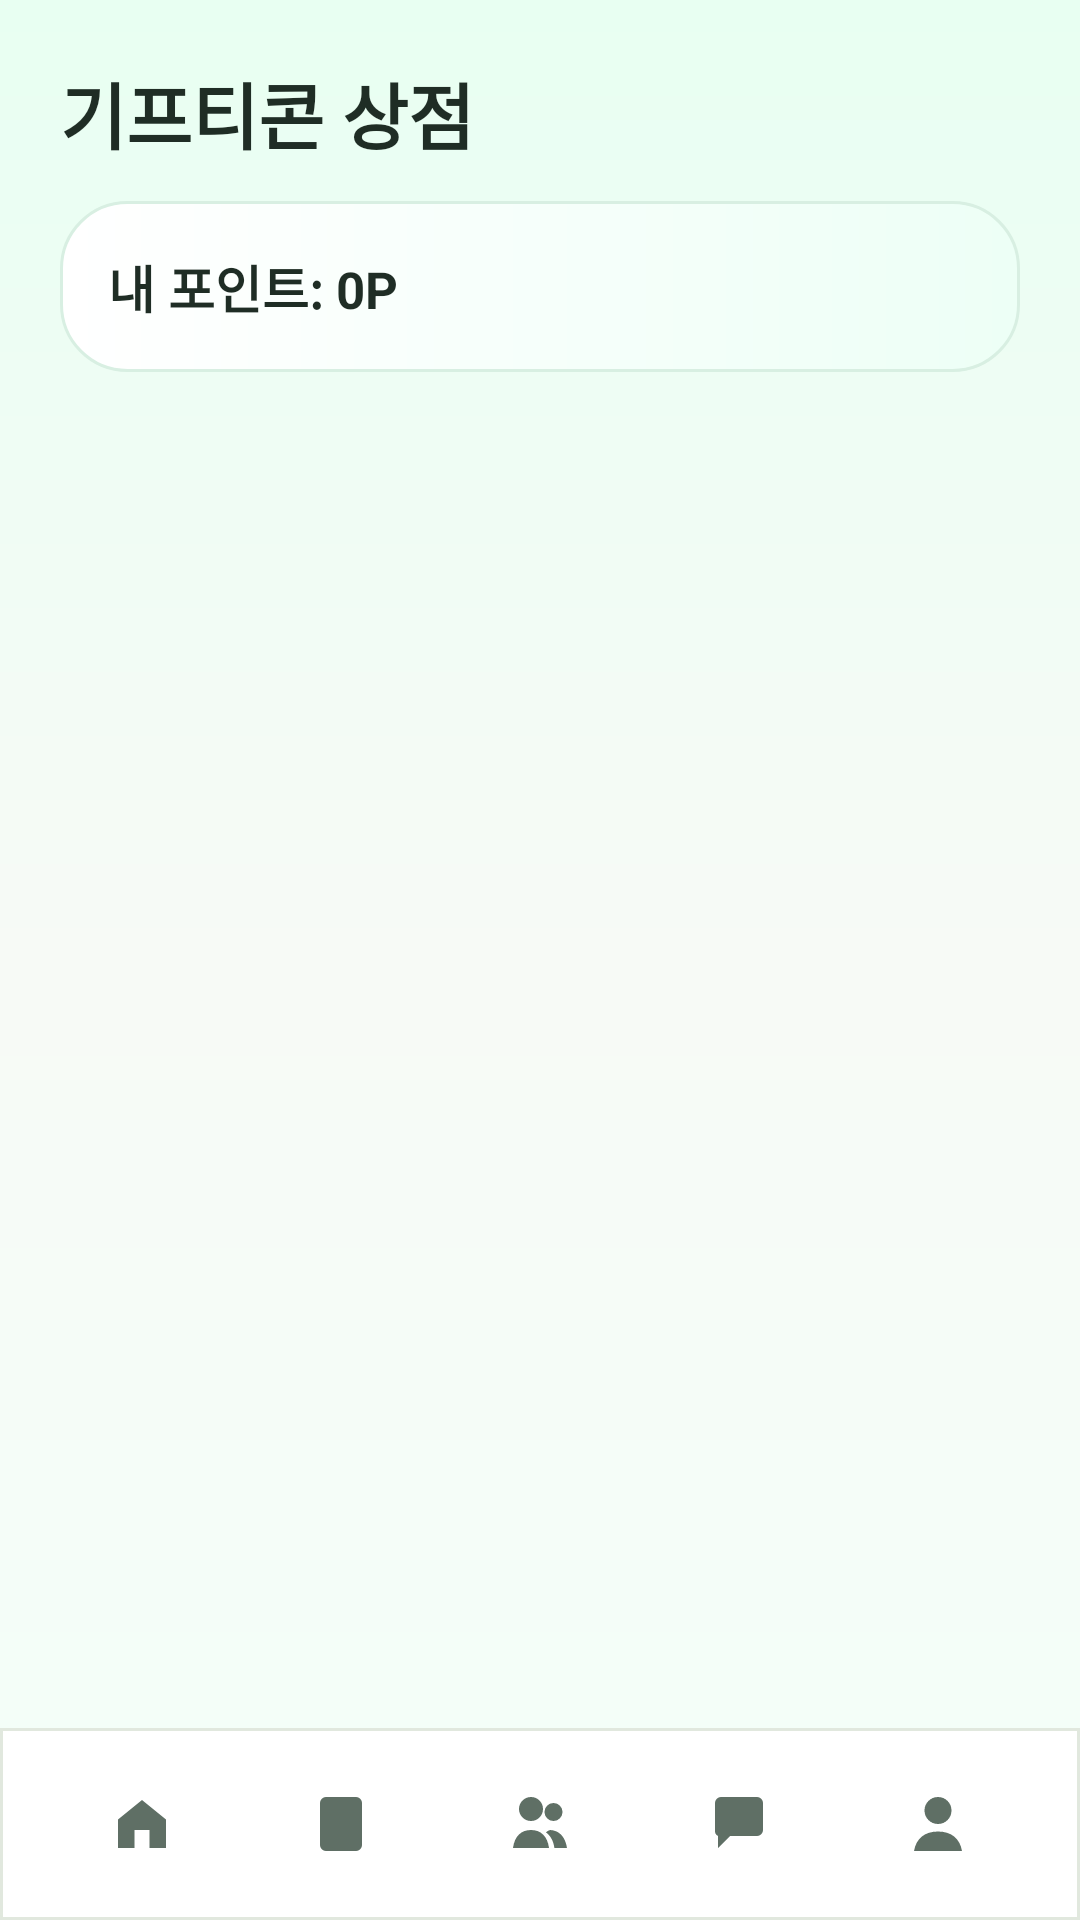

Screen size 1080*1920. Icon name, then its center in pixels as (x,y):
home: (142,1824)
마이페이지: (938,1824)
친구: (540,1822)
커뮤니티: (739,1822)
